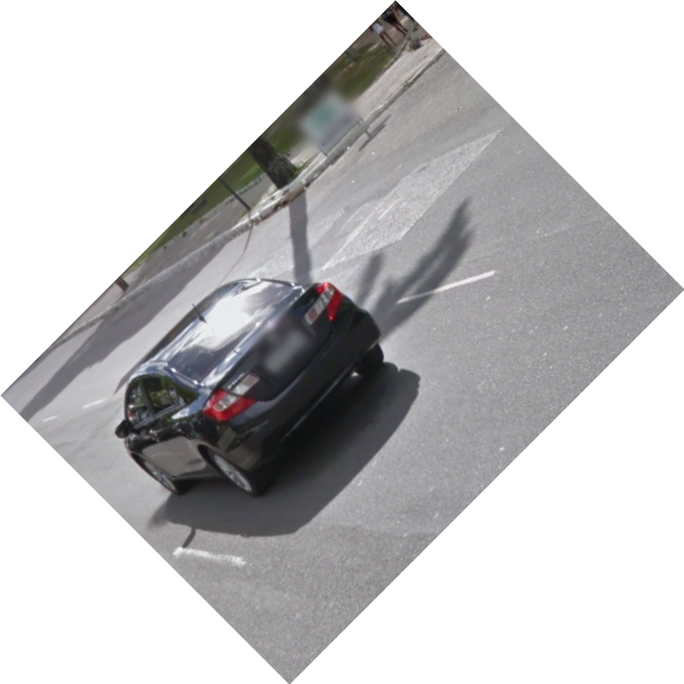car: (110, 268, 397, 503)
